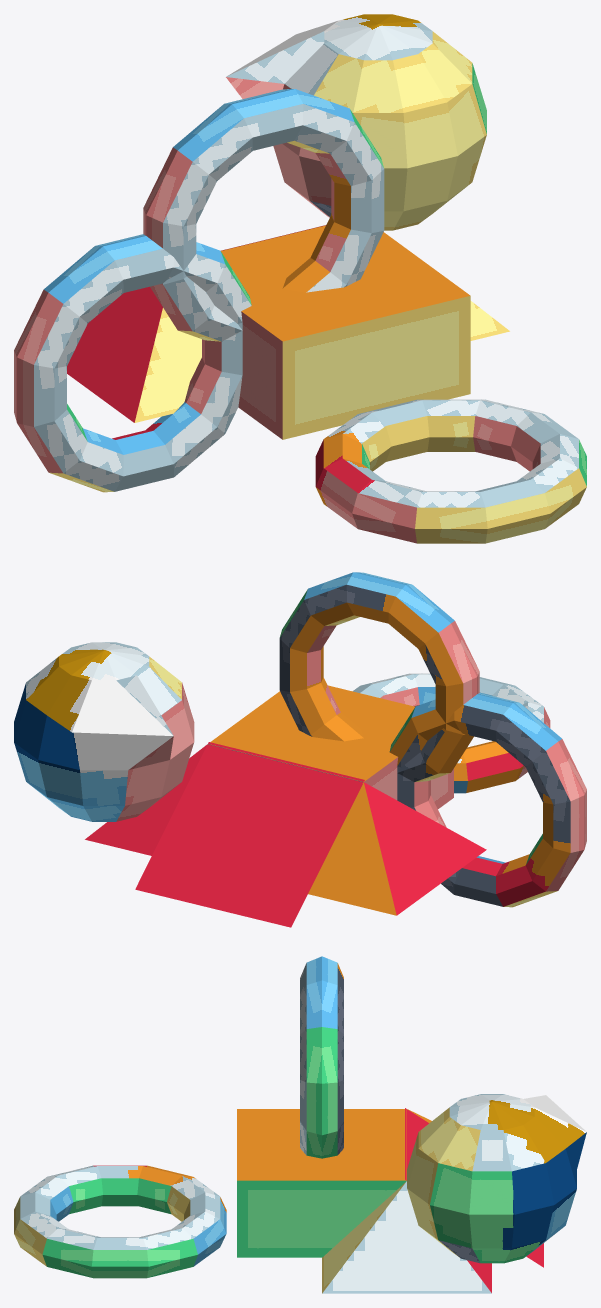
3 views of the same model, one above another, from view 1: azimuth 30°, elevation 25°; view 2: azimuth 150°, elevation 25°; view 3: azimuth 270°, elevation 25° (orthographic). The views are drawn at different scales.
Visible parts, largest first — view 1: torus (×2), cube-col, sphere-col, torus-col, pyramid (×2); view 2: plane-col, sphere-col, torus (×2), torus-col, pyramid (×2), cube-col; view 3: sphere-col, cube-col, torus, pyramid, torus-col, plane-col.
Part boxes in pixels (<box>): torus (×2): <box>14,234,586,543</box>; cube-col: <box>221,225,470,439</box>; sphere-col: <box>226,14,486,230</box>; torus-col: <box>143,89,384,341</box>; pyramid (×2): <box>67,286,509,422</box>; plane-col: <box>135,742,364,927</box>; sphere-col: <box>14,642,194,821</box>; torus (×2): <box>353,673,586,907</box>; torus-col: <box>279,572,479,782</box>; pyramid (×2): <box>85,744,486,915</box>; cube-col: <box>208,685,453,808</box>; sphere-col: <box>407,1094,586,1263</box>; cube-col: <box>237,1109,406,1257</box>; torus: <box>14,1165,226,1278</box>; pyramid: <box>322,1181,491,1293</box>; torus-col: <box>300,956,343,1158</box>; plane-col: <box>405,1108,543,1267</box>.
Bounding box in the file's own units: 3 × 1.81 × 3.37.
Materials: 4 (4 with a texture image).
